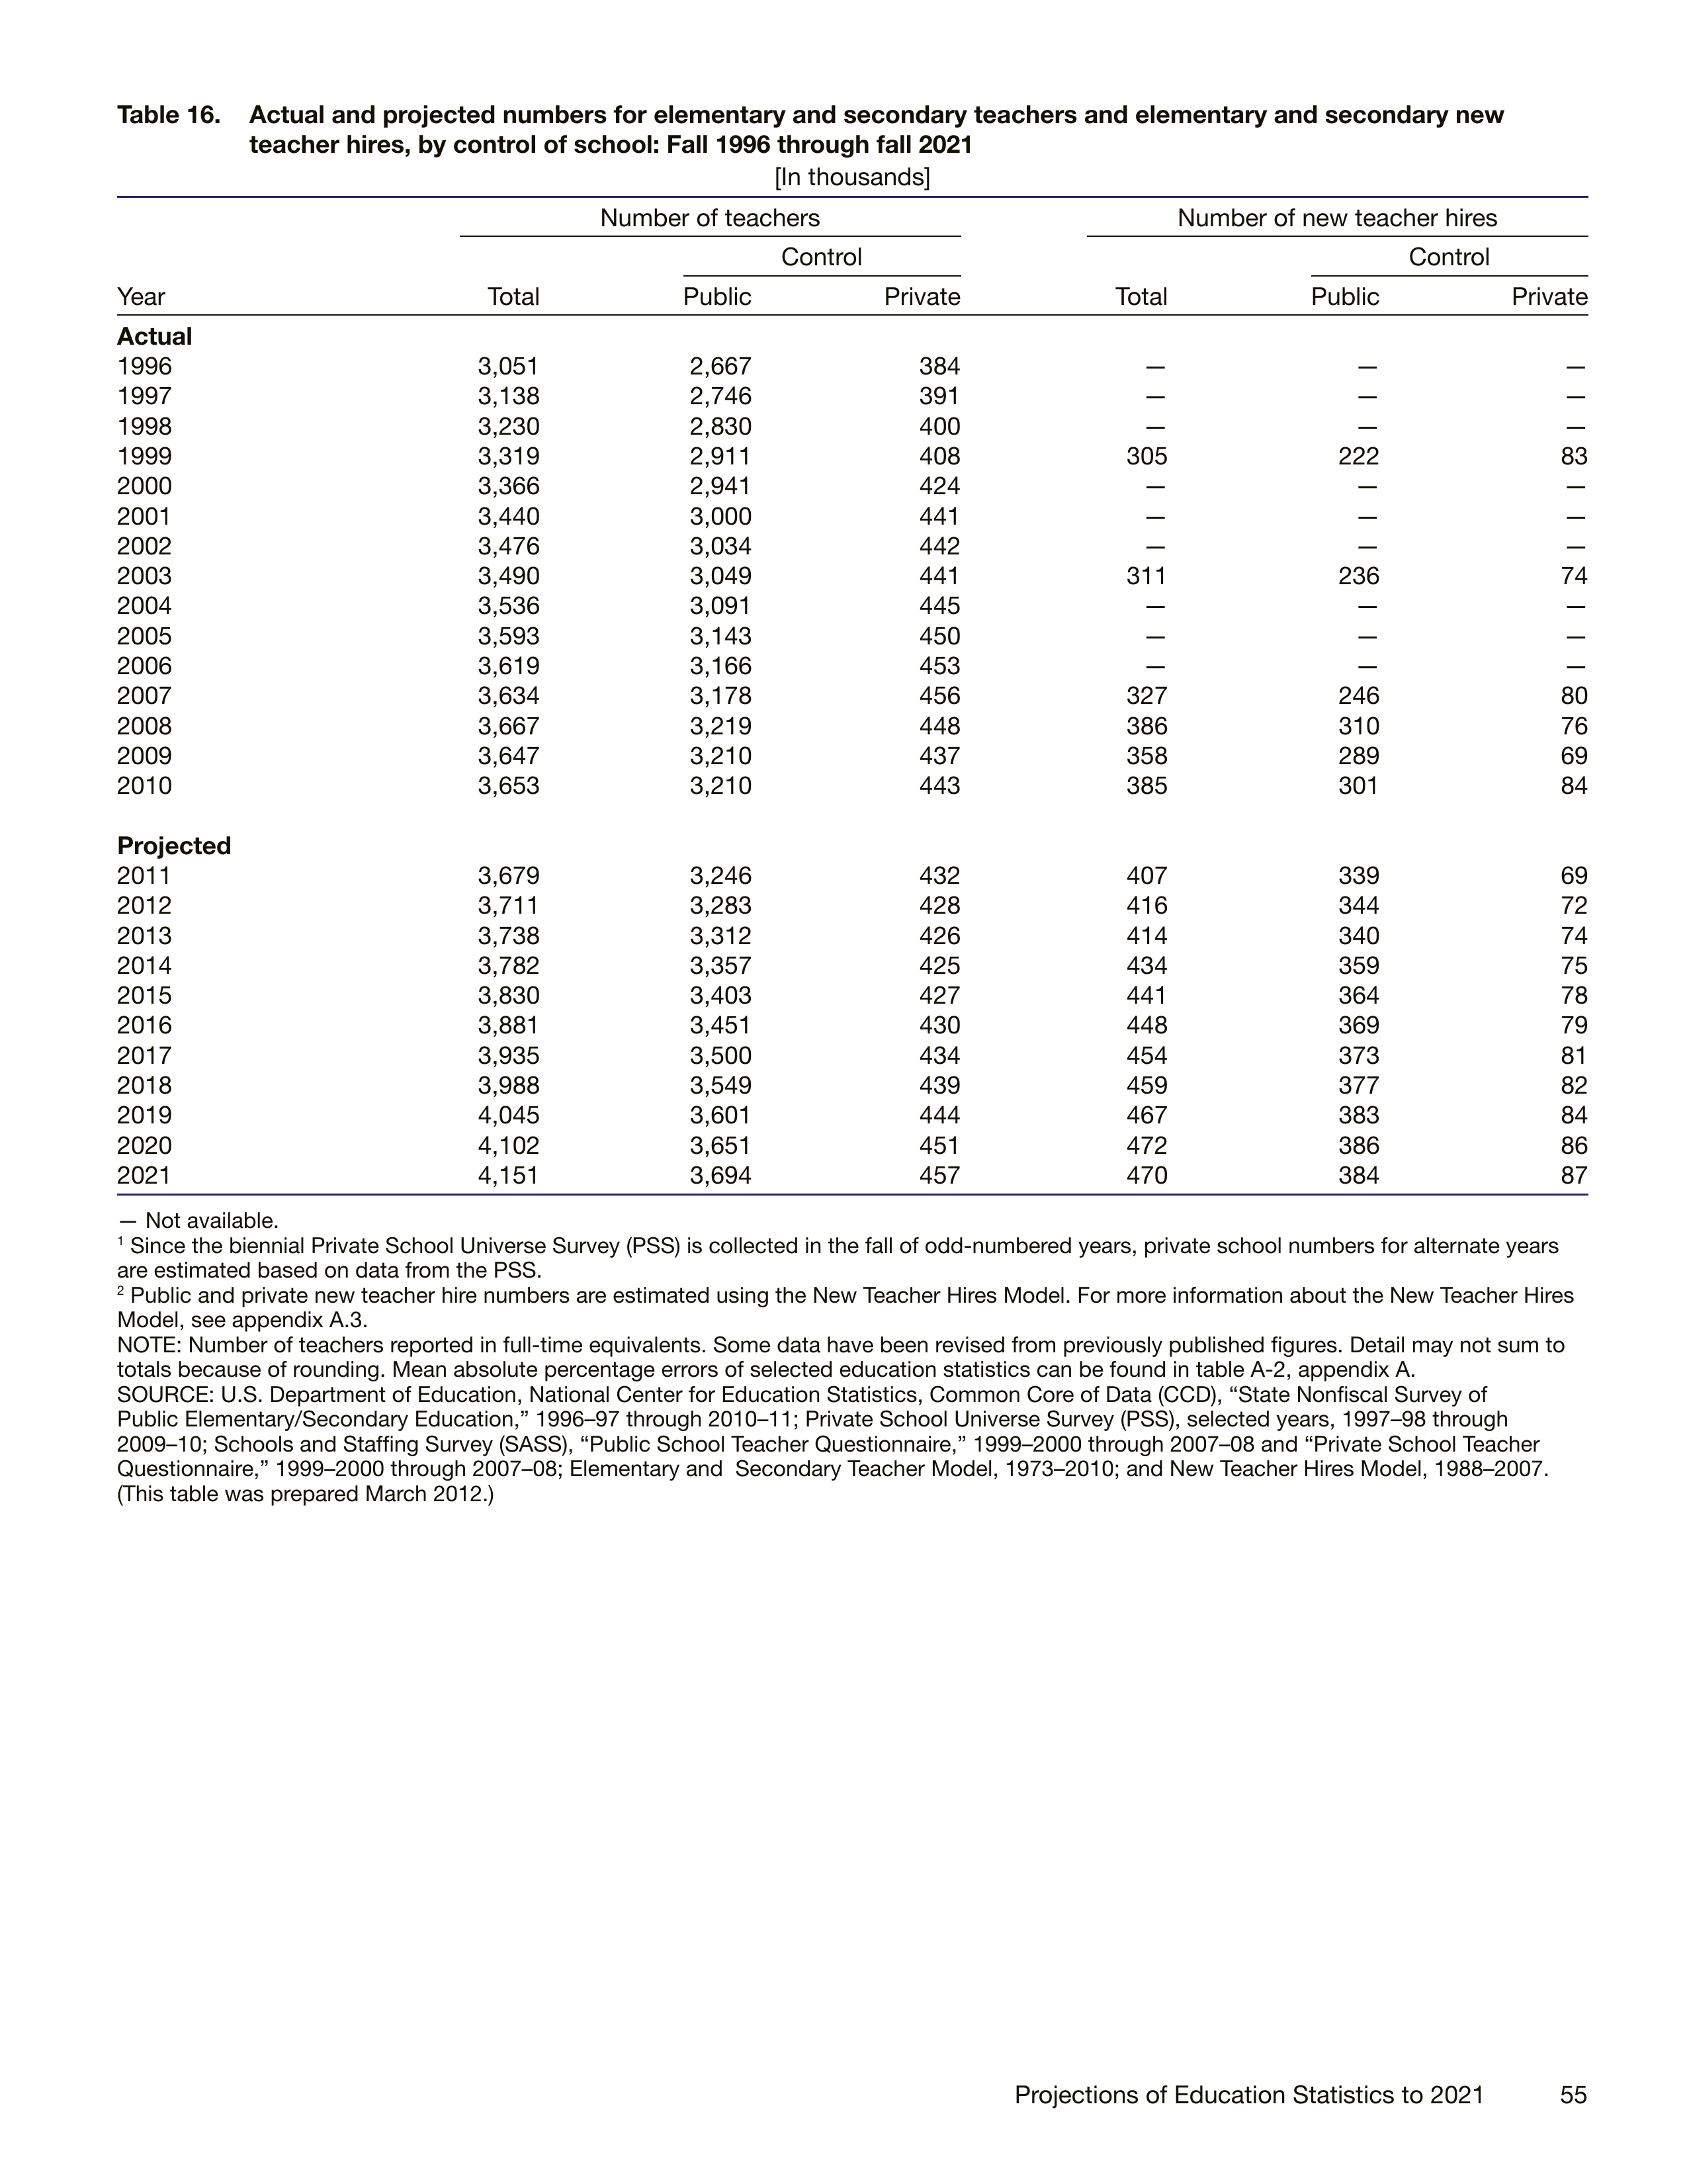table: (97, 188, 1618, 1199)
